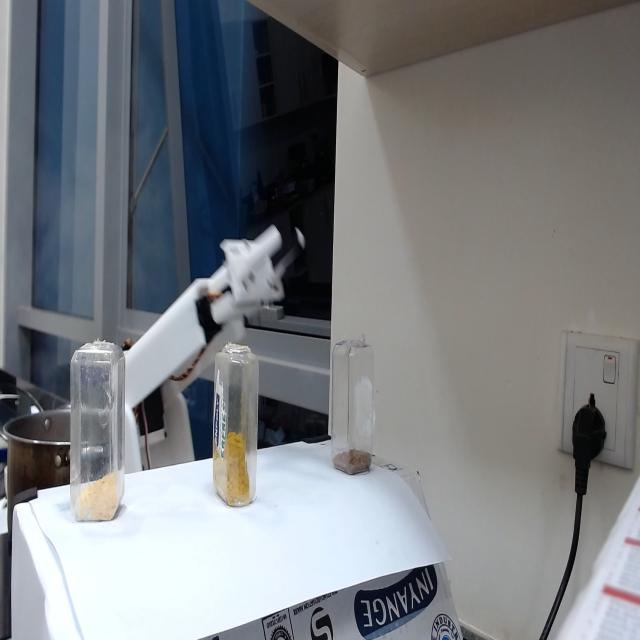curry_powder: (215, 436, 252, 506)
garlic_powder: (80, 472, 118, 520)
maggie_open: (333, 451, 373, 476)
